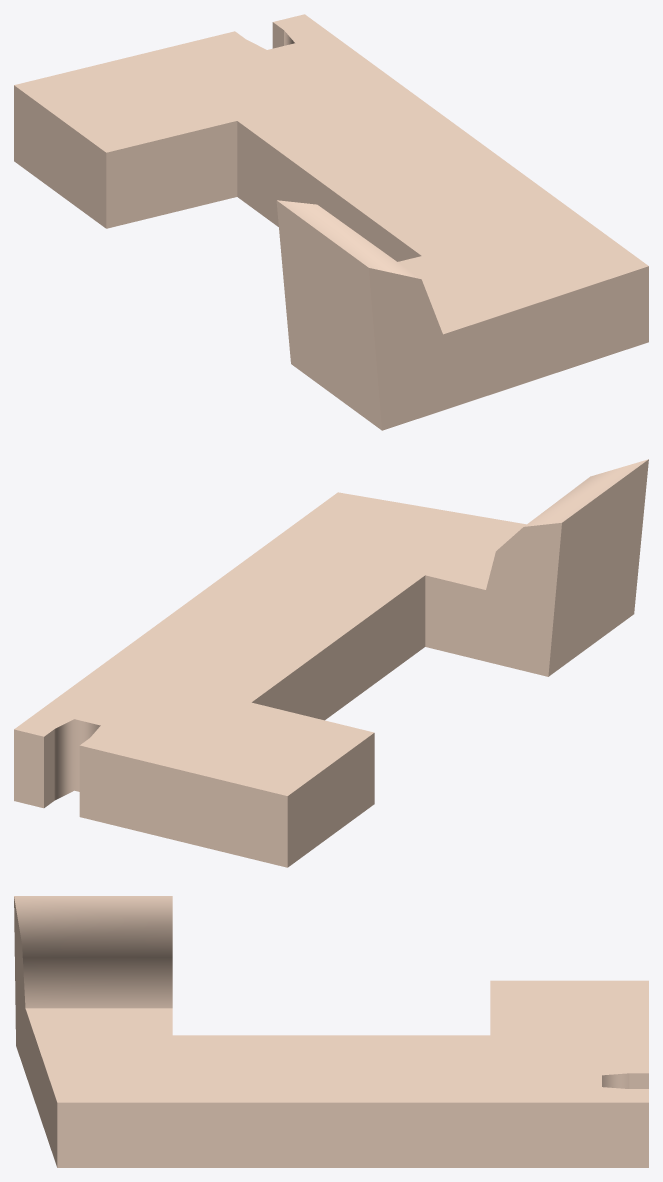
File: Marteau - plaque_Quart - Q.dessous.obj
The picture shows the model from 3 angles, top to bottom: view 1: azimuth 30°, elevation 25°; view 2: azimuth 150°, elevation 25°; view 3: azimuth 270°, elevation 25°; orthographic projection. The views are drawn at different scales.
Parts seen in each view (by area): view 1: Face_2, Face_15, Face_5, Face_9, Face_8, Face_10, Face_4; view 2: Face_2, Face_6, Face_11, Face_5, Face_10, Face_8, Face_12, Face_7, Face_4, Face_14; view 3: Face_2, Face_1, Face_4, Face_15, Face_12.
Boxes of the visible parts, x1=… form: Face_2: x1=14, y1=14, x2=648, y2=334; Face_15: x1=369, y1=266, x2=648, y2=430; Face_5: x1=276, y1=200, x2=381, y2=430; Face_9: x1=106, y1=121, x2=237, y2=228; Face_8: x1=14, y1=85, x2=106, y2=228; Face_10: x1=237, y1=121, x2=421, y2=261; Face_4: x1=277, y1=200, x2=420, y2=278; Face_2: x1=14, y1=492, x2=526, y2=795; Face_6: x1=79, y1=745, x2=287, y2=867; Face_11: x1=425, y1=523, x2=561, y2=676; Face_5: x1=548, y1=459, x2=648, y2=676; Face_10: x1=252, y1=575, x2=425, y2=720; Face_8: x1=287, y1=733, x2=374, y2=867; Face_12: x1=54, y1=719, x2=100, y2=800; Face_7: x1=14, y1=729, x2=43, y2=808; Face_4: x1=524, y1=459, x2=648, y2=526; Face_14: x1=44, y1=729, x2=54, y2=807; Face_2: x1=25, y1=980, x2=648, y2=1102; Face_1: x1=57, y1=1102, x2=648, y2=1167; Face_4: x1=14, y1=896, x2=172, y2=1008; Face_15: x1=14, y1=897, x2=57, y2=1167; Face_12: x1=602, y1=1073, x2=629, y2=1088.
Bounding box in the file's own units: 0.0105 × 0.0055 × 0.022.
